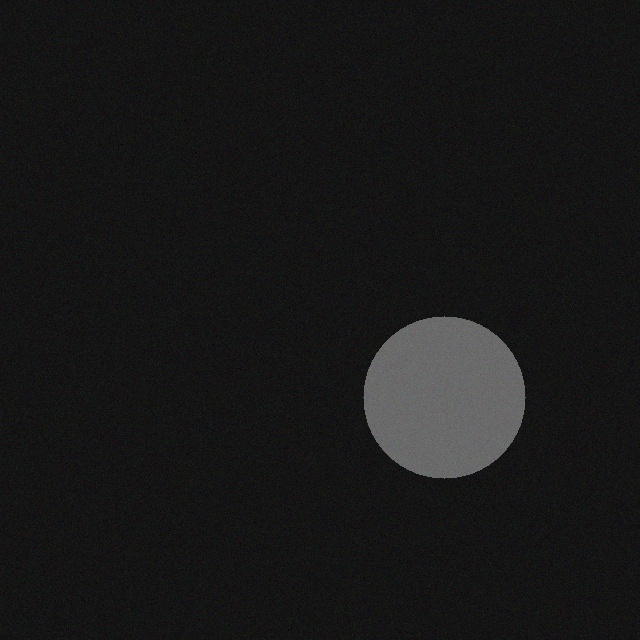circle: (355, 302, 517, 464)
